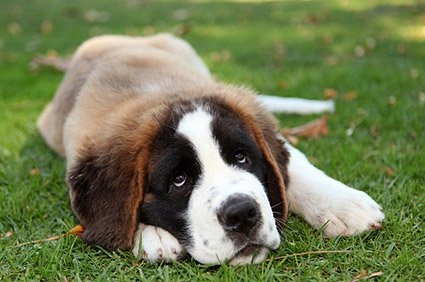dog: (60, 28, 385, 260)
